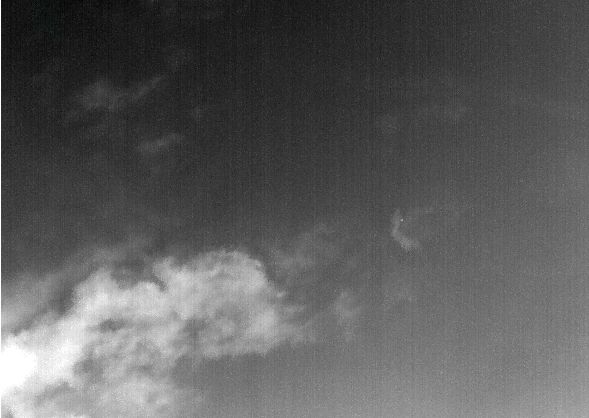dim target: (399, 218, 405, 222)
